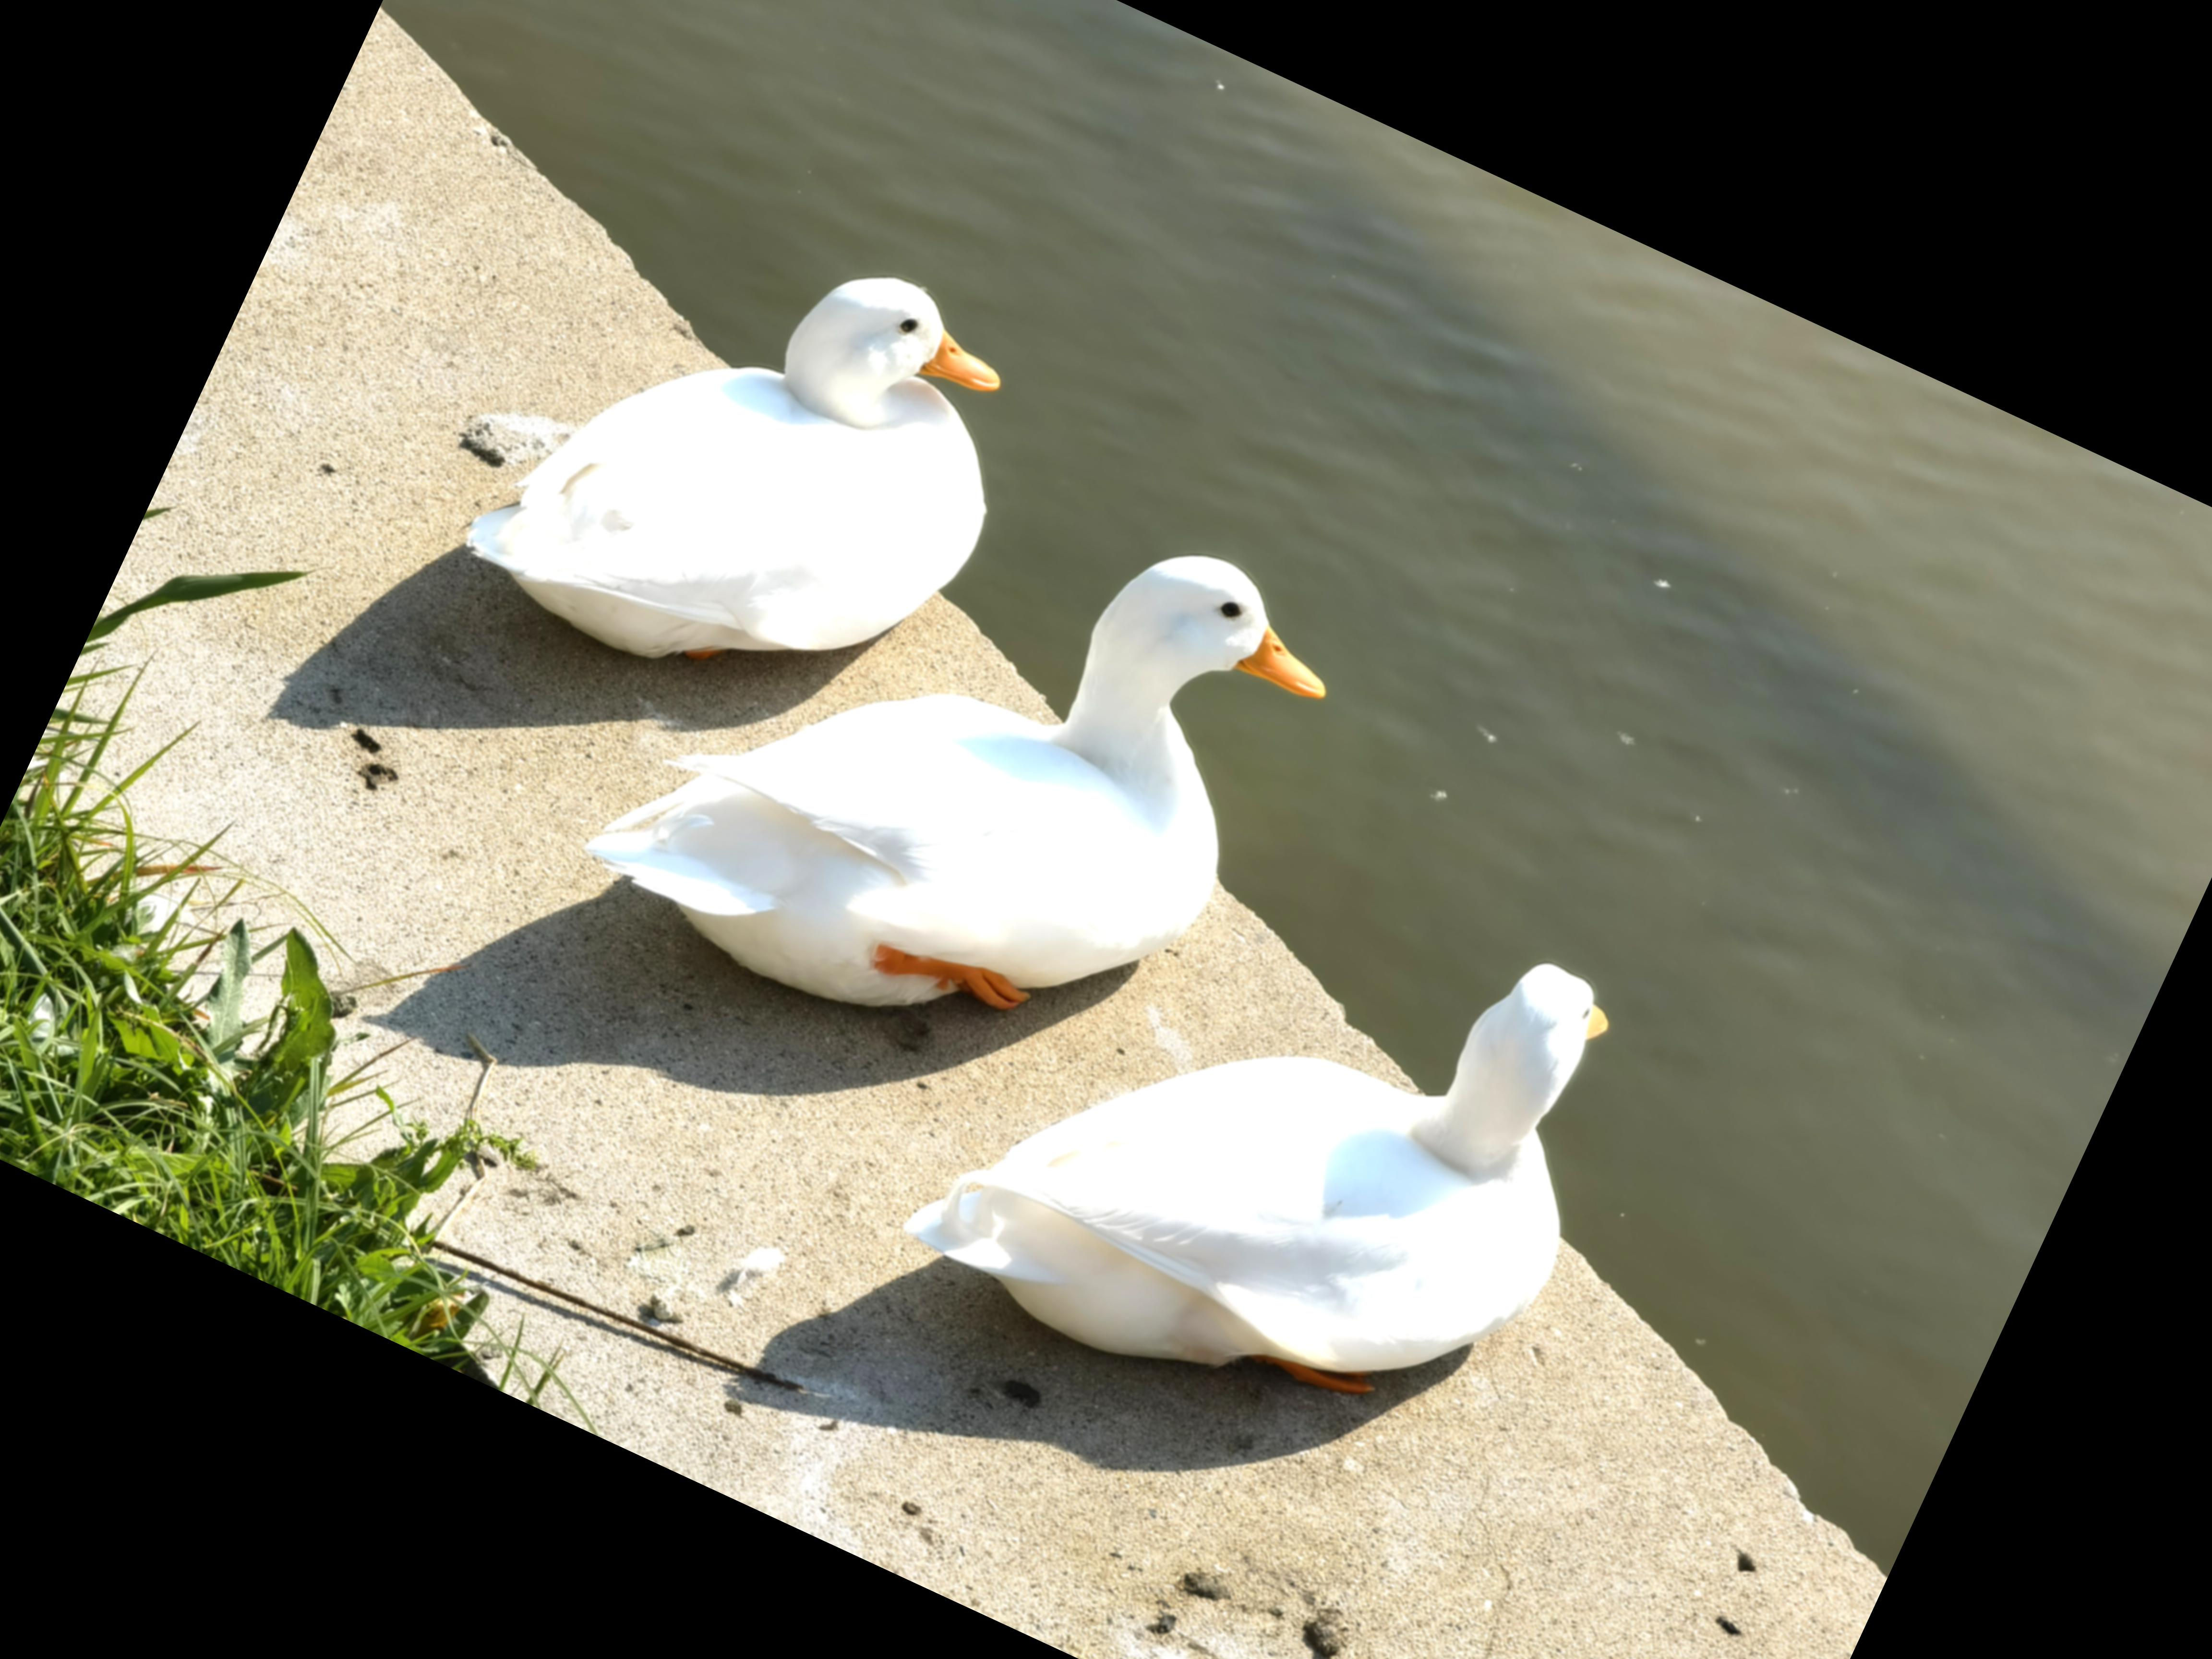duck: (846, 723, 1691, 1547), (554, 343, 1381, 1171), (381, 103, 1118, 803)
